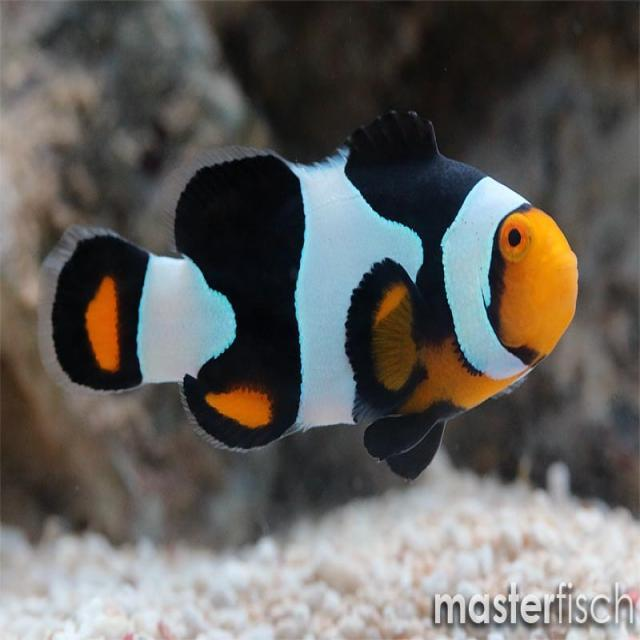ClownFish: (34, 103, 578, 480)
